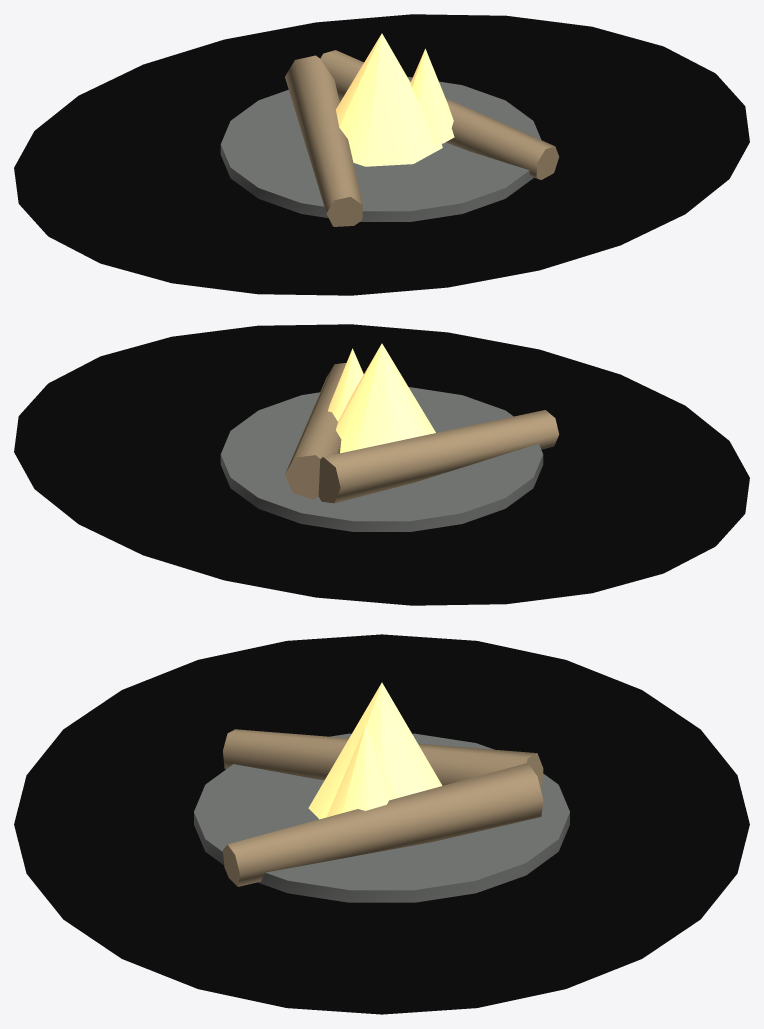
Rendered from campfire_rest.glb.
3 views of the same model, one above another, from view 1: azimuth 30°, elevation 25°; view 2: azimuth 150°, elevation 25°; view 3: azimuth 270°, elevation 25° (orthographic). The views are drawn at different scales.
Parts seen in each view (by area): view 1: baked_contact_shadow, ash_ring, small_flame_a, log_left, log_right, small_flame_b; view 2: baked_contact_shadow, ash_ring, log_left, small_flame_a, log_right, small_flame_b; view 3: baked_contact_shadow, ash_ring, log_right, log_left, small_flame_a, small_flame_b.
Part boxes in pixels (x1,y1,x2,y2): baked_contact_shadow: (14, 14, 749, 295); ash_ring: (220, 77, 541, 221); small_flame_a: (336, 33, 442, 166); log_left: (285, 55, 363, 226); log_right: (320, 50, 559, 179); small_flame_b: (410, 48, 454, 144); baked_contact_shadow: (14, 324, 749, 605); ash_ring: (220, 387, 543, 531); log_left: (318, 410, 559, 503); small_flame_a: (336, 343, 435, 453); log_right: (285, 363, 346, 499); small_flame_b: (328, 348, 363, 421); baked_contact_shadow: (14, 634, 749, 1014); ash_ring: (194, 733, 569, 902); log_right: (223, 763, 543, 886); log_left: (223, 729, 543, 791); small_flame_a: (308, 682, 442, 819); small_flame_b: (326, 725, 396, 817).
Size of the model in its own units: 2.2 by 0.3948 by 1.8.
